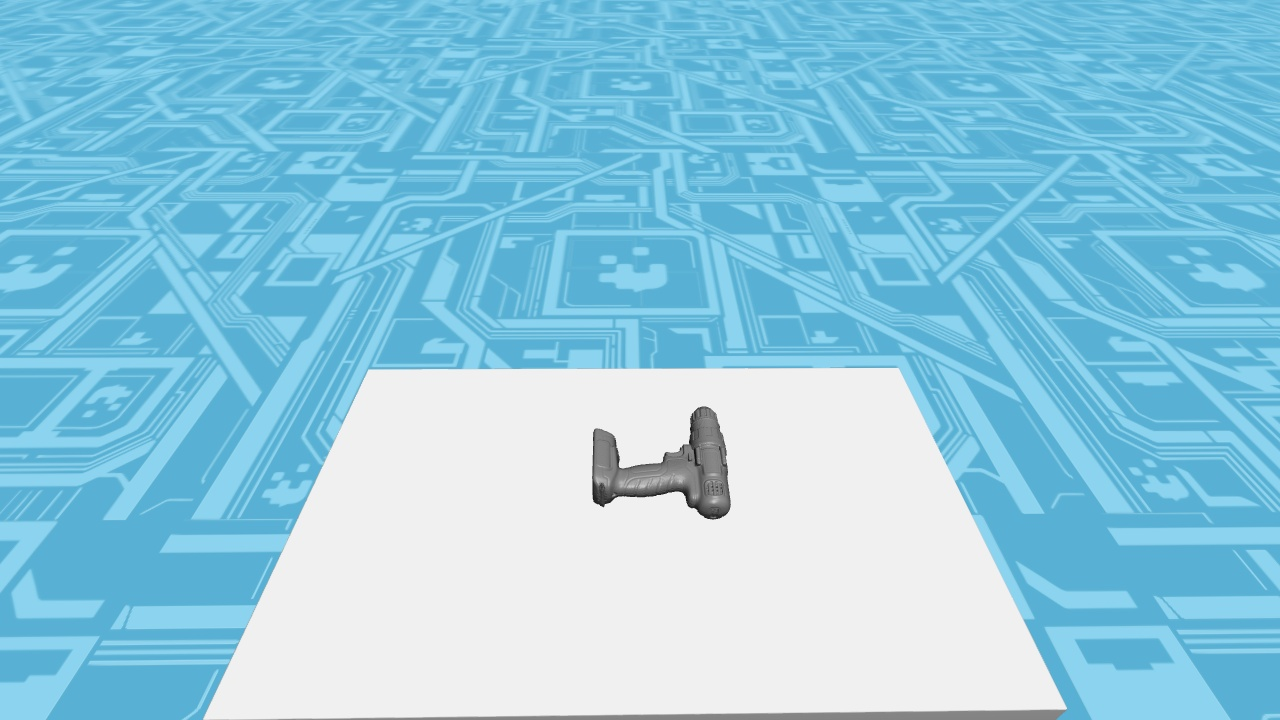power_drill: (592, 406, 730, 518)
